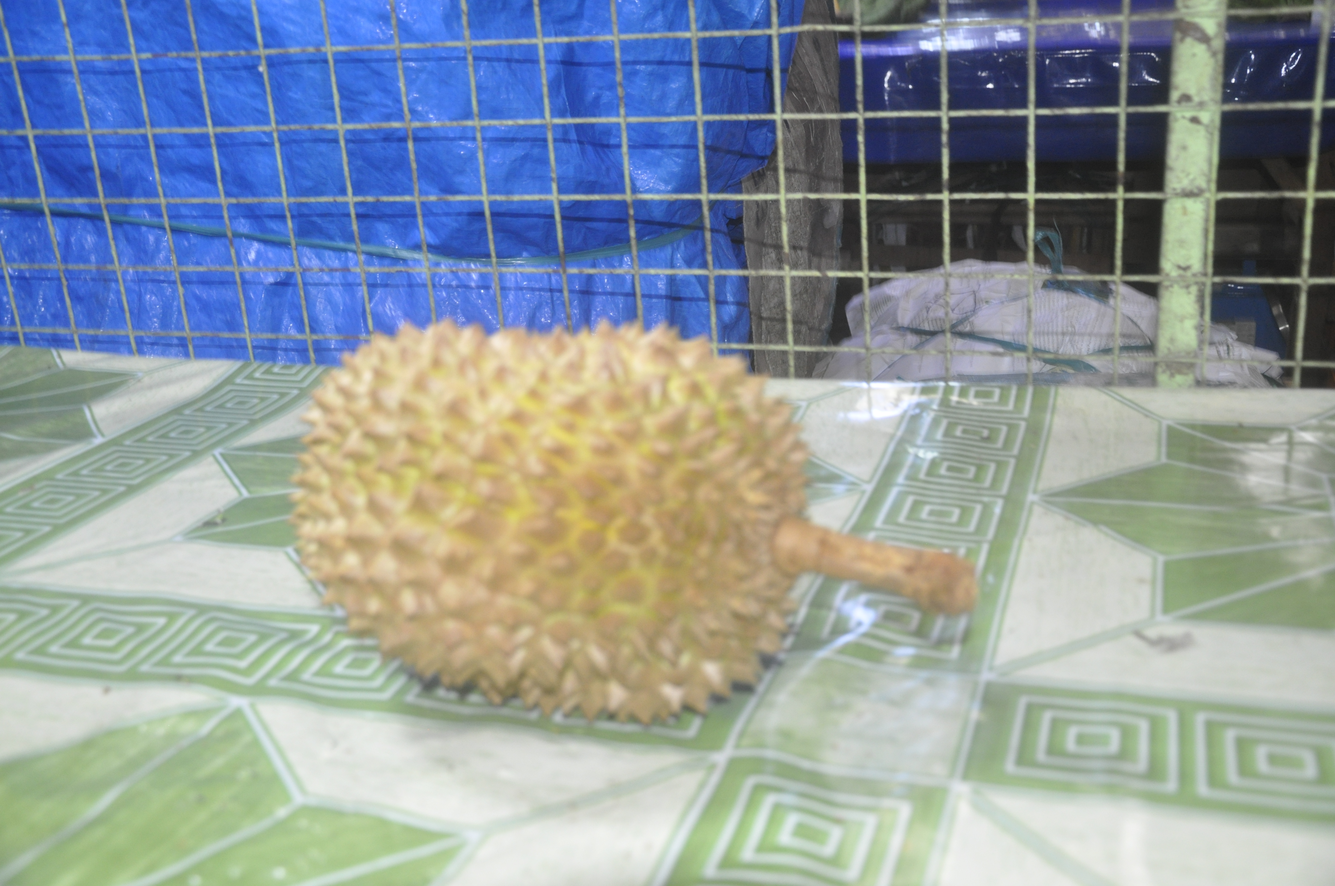mature: (292, 322, 976, 723)
